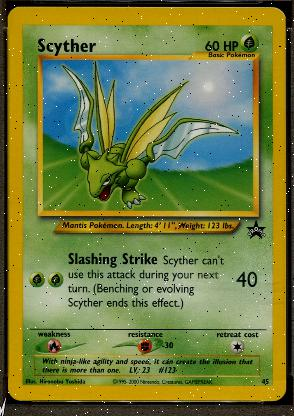Card: (3, 4, 287, 404)
